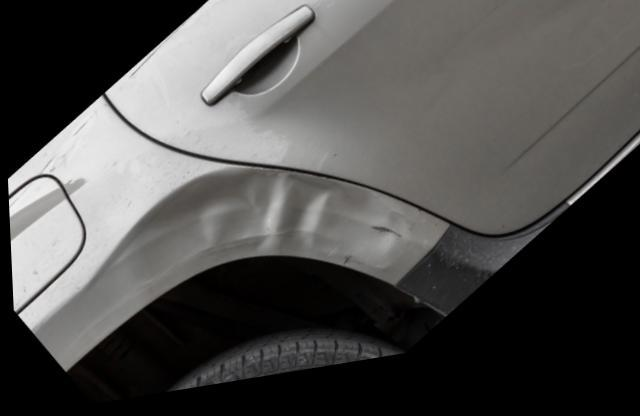dent: (114, 172, 410, 307)
